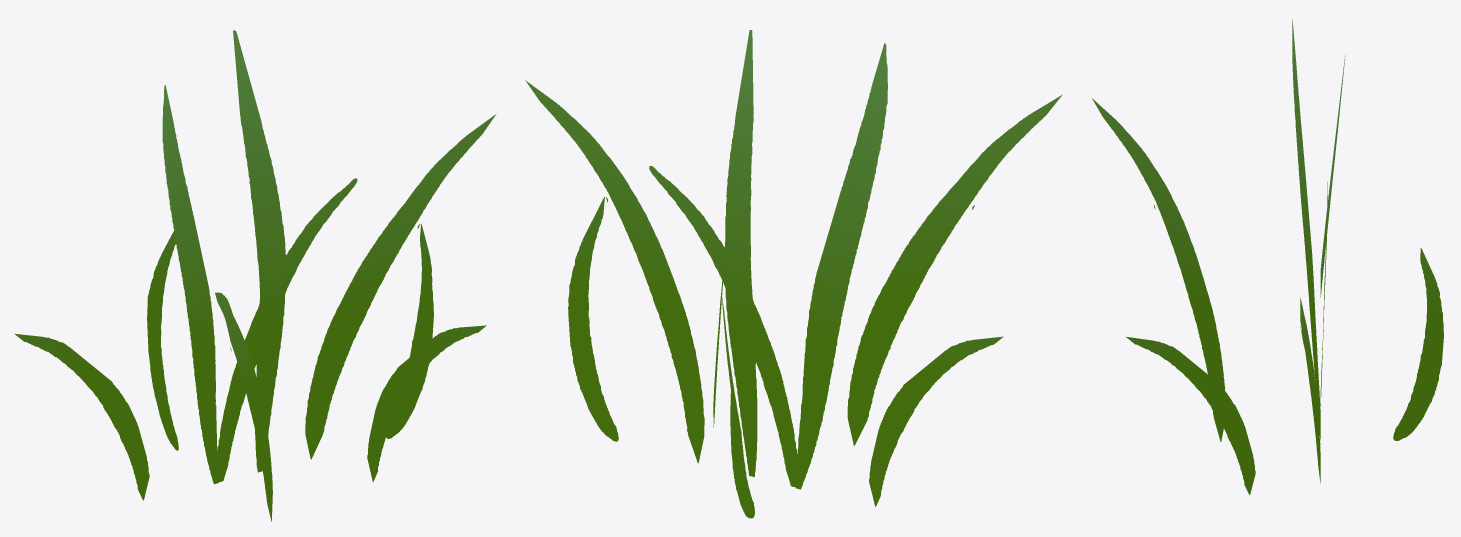
The model's file is SM_grass.glb.
The picture shows the model from 3 angles, left to right: view 1: azimuth 30°, elevation 25°; view 2: azimuth 150°, elevation 25°; view 3: azimuth 270°, elevation 25°; orthographic projection. The views are drawn at different scales.
Visible parts, largest first — view 1: SM_grass; view 2: SM_grass; view 3: SM_grass.
Part boxes in pixels (x1=…): SM_grass: x1=14, y1=30, x2=496, y2=521; SM_grass: x1=525, y1=30, x2=1062, y2=518; SM_grass: x1=1092, y1=19, x2=1443, y2=494.
Size of the model in its own units: 0.8491 by 0.7844 by 0.605.
Materials: 1 (1 with a texture image).
